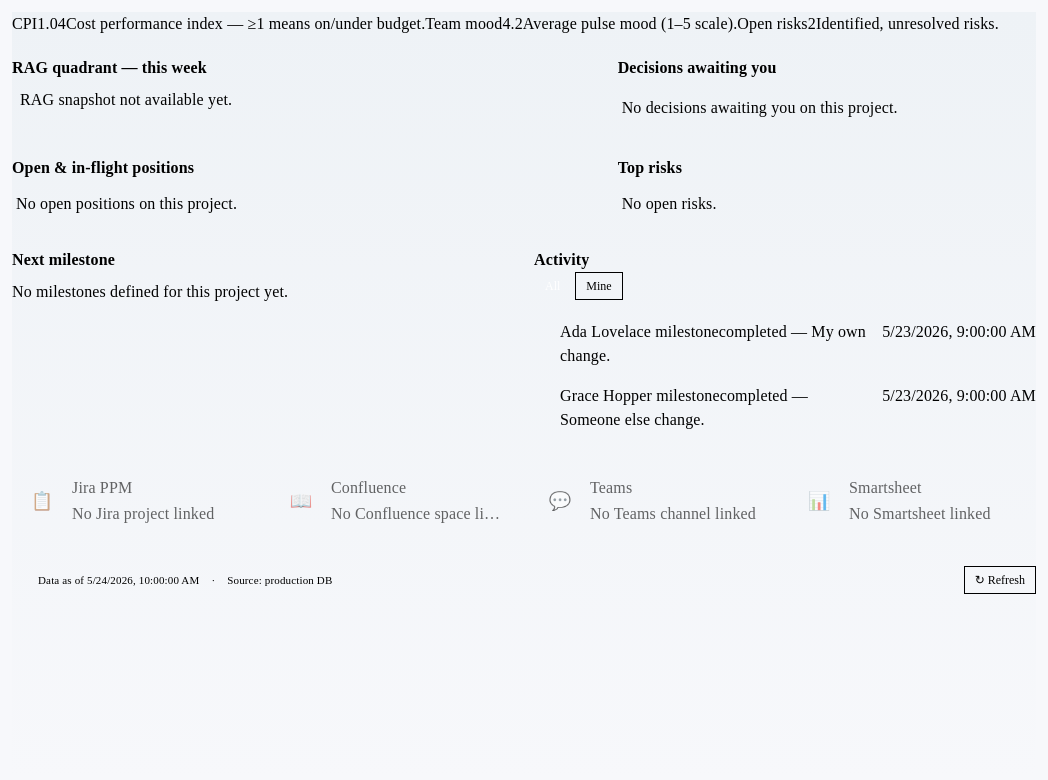
Test: PulseTab — DS canvas conformance (SoT PR 5) › All/Mine toggle filters activity to the current user
Expected: the element with test id "pulse-activity" is shown, left=534, top=308, right=1036, bottom=444
Expected: the text "Ada Lovelace milestonecompleted — My own change." is shown, left=560, top=320, right=870, bottom=368
Click the button "Mine".
click(599, 286)  # box left=575, top=272, right=623, bottom=300
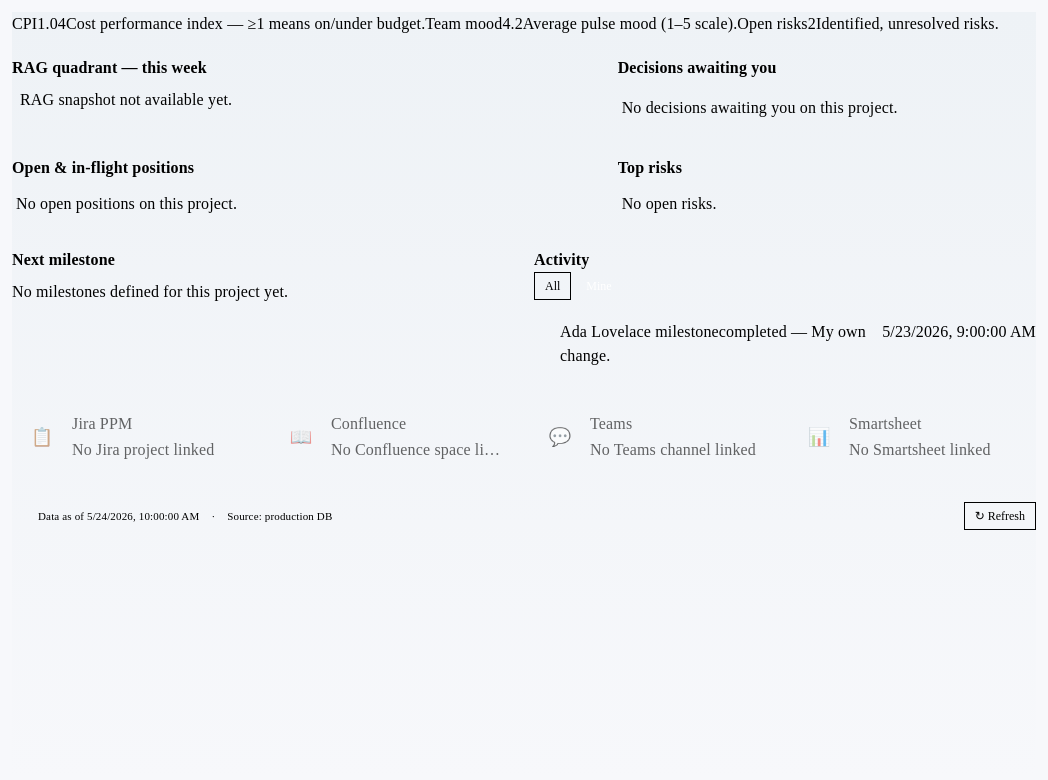
Expected: the text "Ada Lovelace milestonecompleted — My own change." is shown, left=560, top=320, right=870, bottom=368
Expected: the text "Someone else change" is gone
